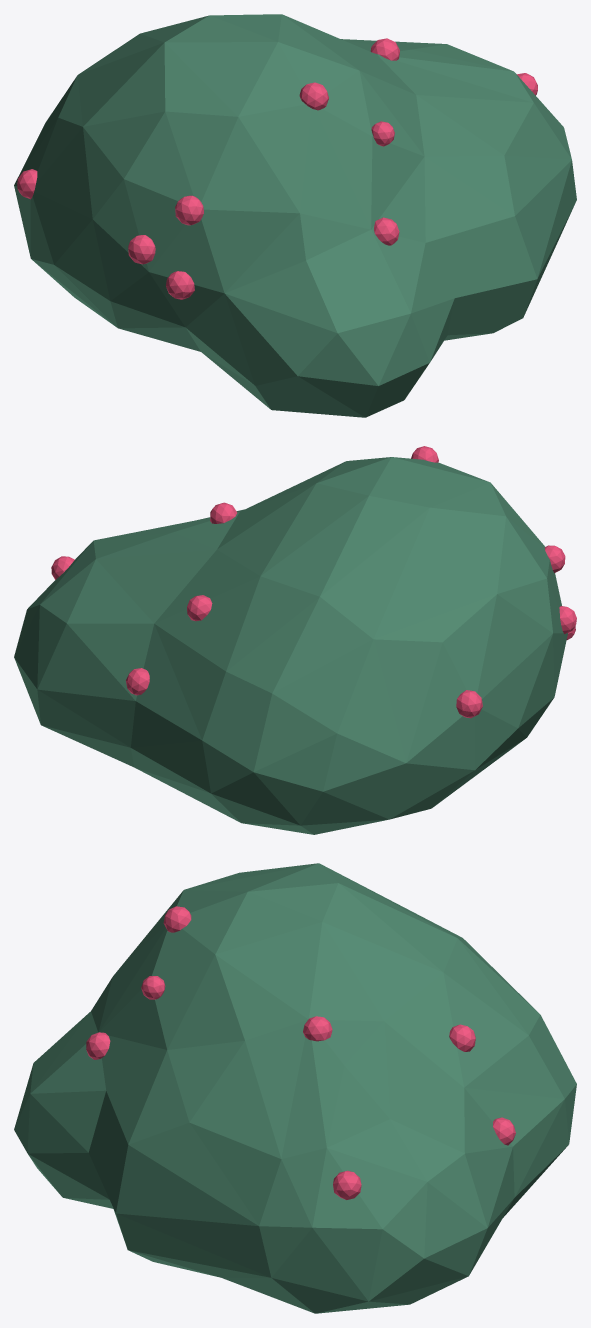
Rendered from bush.fbx.
3 renders of one model, top to bottom at view 1: azimuth 30°, elevation 25°; view 2: azimuth 150°, elevation 25°; view 3: azimuth 270°, elevation 25°, orthographic. The views are drawn at different scales.
Visible parts, largest first — view 1: Bush; view 2: Bush; view 3: Bush.
Boxes of the visible parts, x1=… form: Bush: x1=14, y1=14, x2=576, y2=417; Bush: x1=14, y1=446, x2=576, y2=834; Bush: x1=14, y1=863, x2=576, y2=1313.
Bounding box in the file's own units: 293 × 166 × 290.
